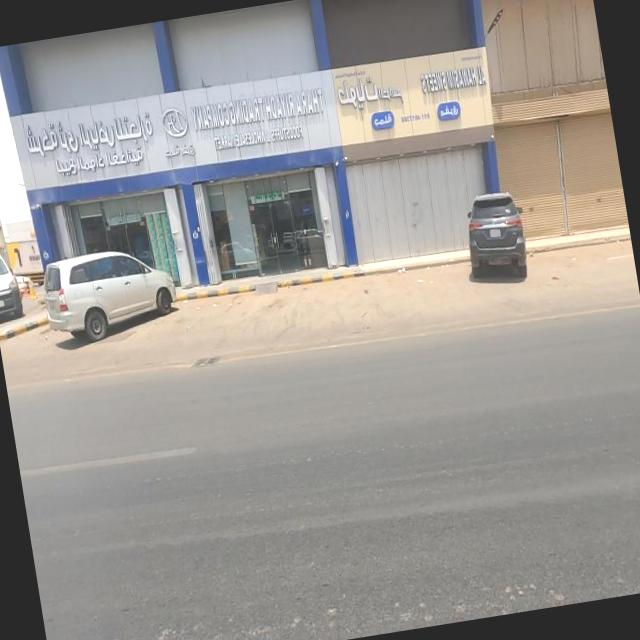debris: (371, 244, 433, 296), (192, 277, 236, 331), (398, 261, 439, 298)
